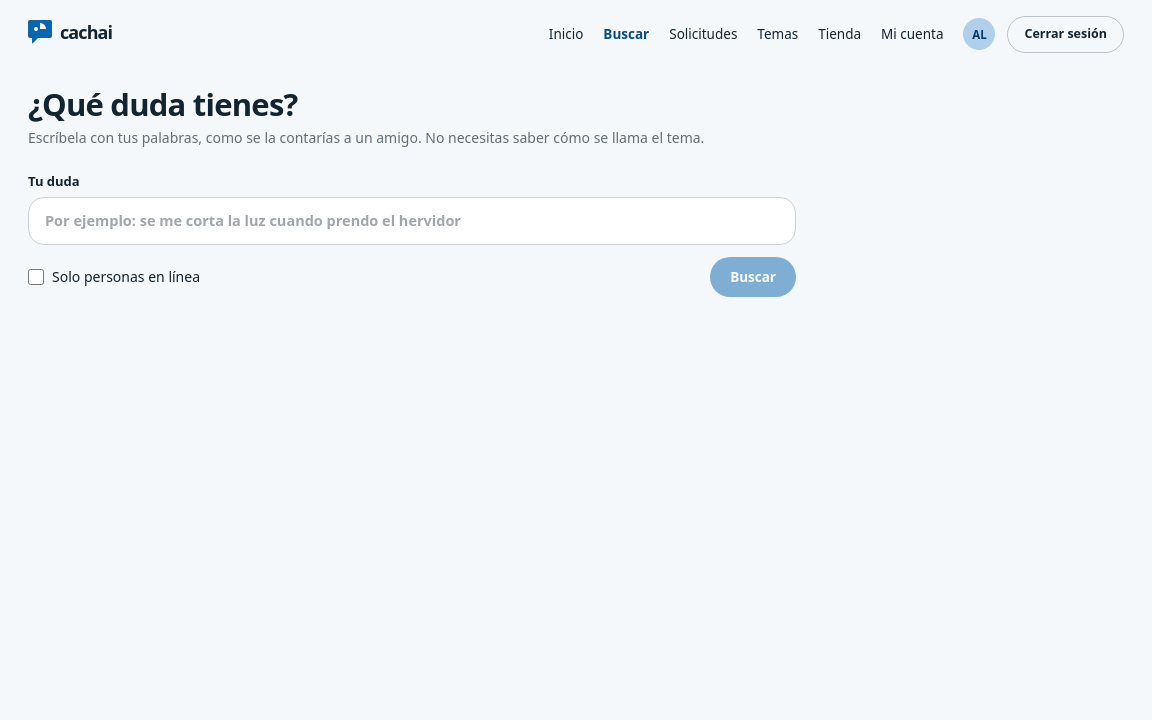
Test: buscador › muestra a quien sabe del tema y si todavia no tiene valoraciones
The width and height of the screenshot is (1152, 720).
Type "tengo un problema con un enchufe" into the field labelled "Tu duda" at (412, 221), box 28,197 -> 796,245
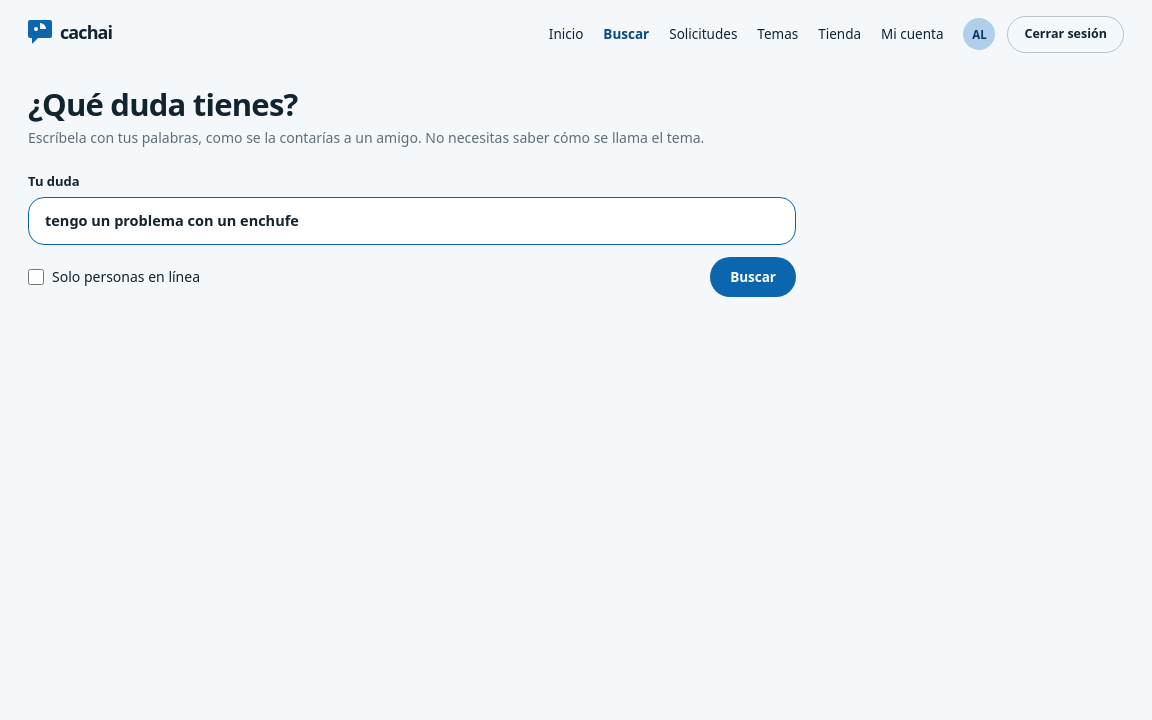
Click the button "Buscar" at (753, 277), box 710,257 -> 796,297
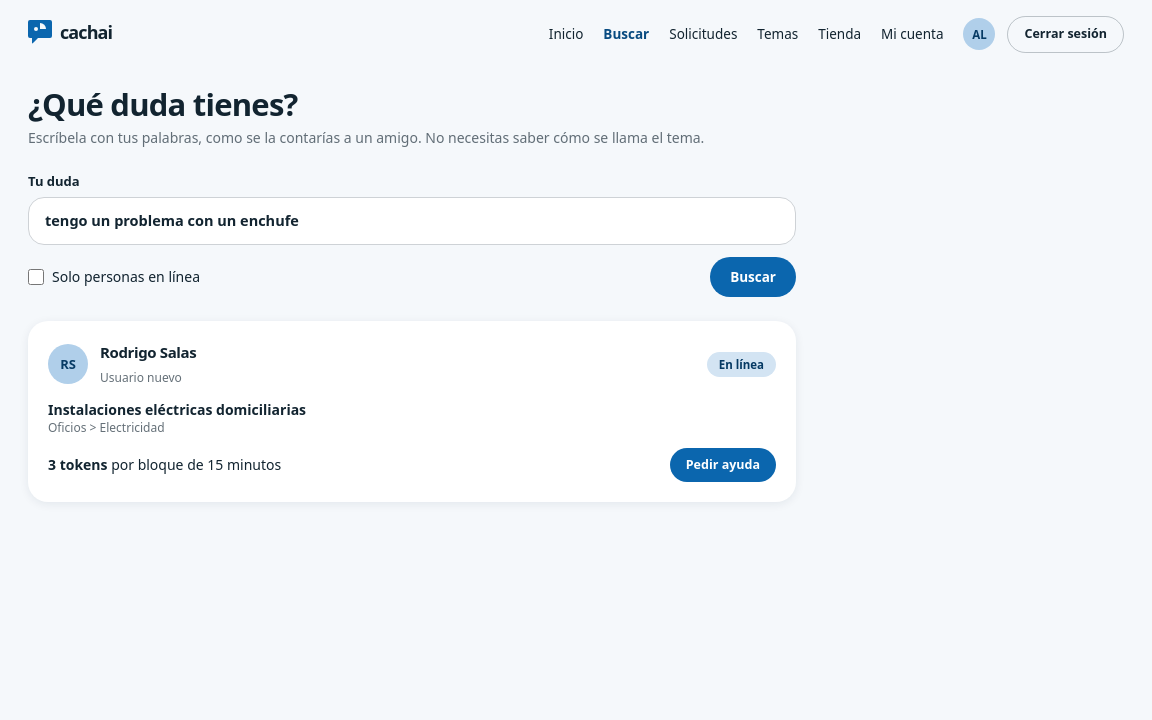
Result: the heading "Rodrigo Salas" is shown at 100,341 -> 196,364
Result: the text "Usuario nuevo" is shown at 100,368 -> 182,386
Result: the text "En línea" is shown at 707,352 -> 776,377
